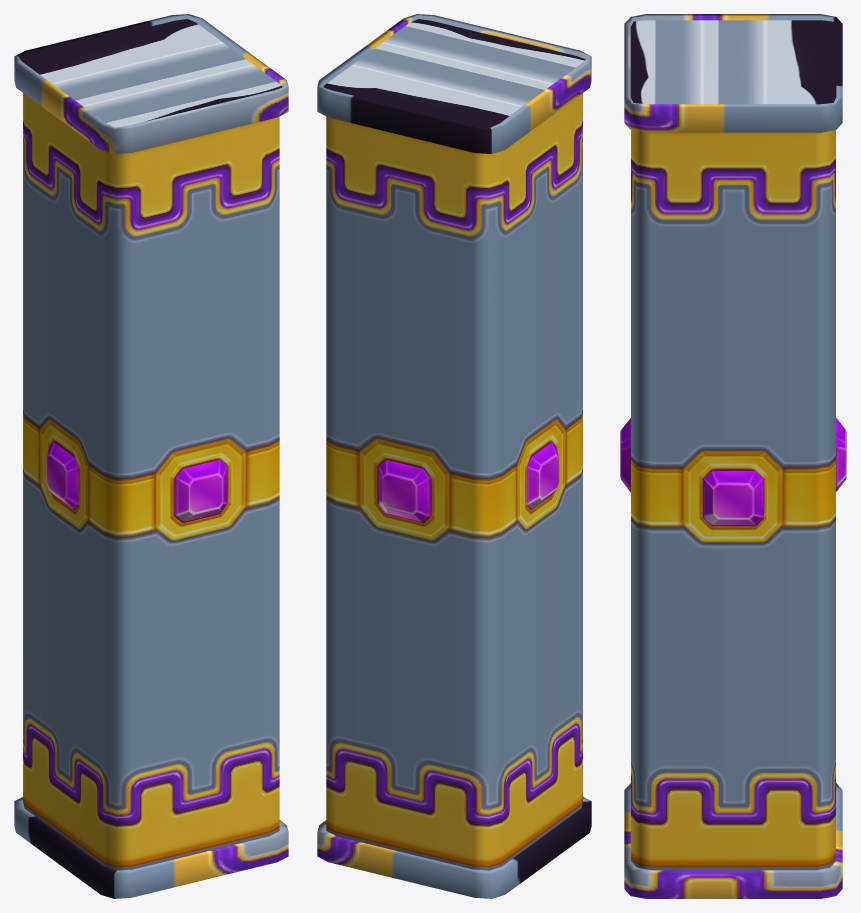
The picture shows the model from 3 angles, left to right: view 1: azimuth 30°, elevation 25°; view 2: azimuth 150°, elevation 25°; view 3: azimuth 270°, elevation 25°; orthographic projection. The views are drawn at different scales.
Parts seen in each view (by area): view 1: 4004; view 2: 4004; view 3: 4004.
Part boxes in pixels (x1,y1,x2,y2): 4004: (14, 14, 288, 898); 4004: (317, 14, 591, 898); 4004: (620, 14, 846, 898).
Bounding box in the file's own units: 1.02 × 3.96 × 1.02.
1 material, 1 textured.
